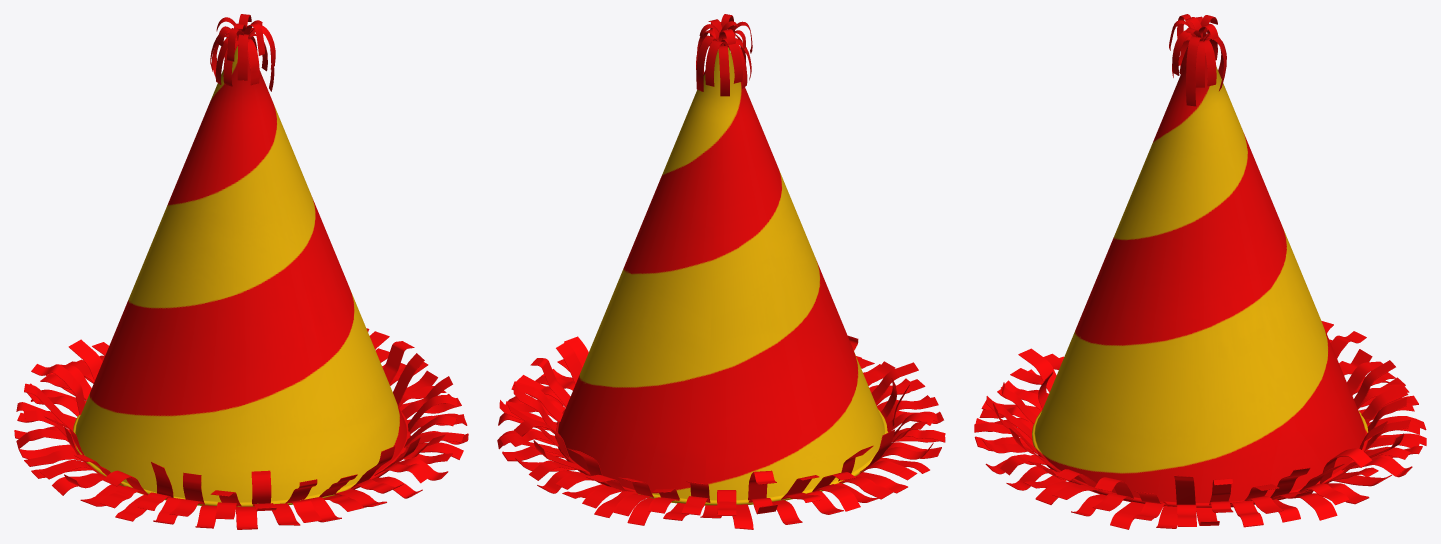
Rendered from colorful_cartoon_party_hat_3d_model.glb.
The picture shows the model from 3 angles, left to right: view 1: azimuth 30°, elevation 25°; view 2: azimuth 150°, elevation 25°; view 3: azimuth 270°, elevation 25°; orthographic projection.
Visible parts, largest first — view 1: node_id74_1; view 2: node_id74_1; view 3: node_id74_1.
Part boxes in pixels (box(x1,y1,x2,y2)): node_id74_1: box(14, 14, 468, 529); node_id74_1: box(497, 14, 945, 529); node_id74_1: box(974, 14, 1426, 529).
Size of the model in its own units: 0.5021 by 0.512 by 0.5005.
1 material, 1 textured.
